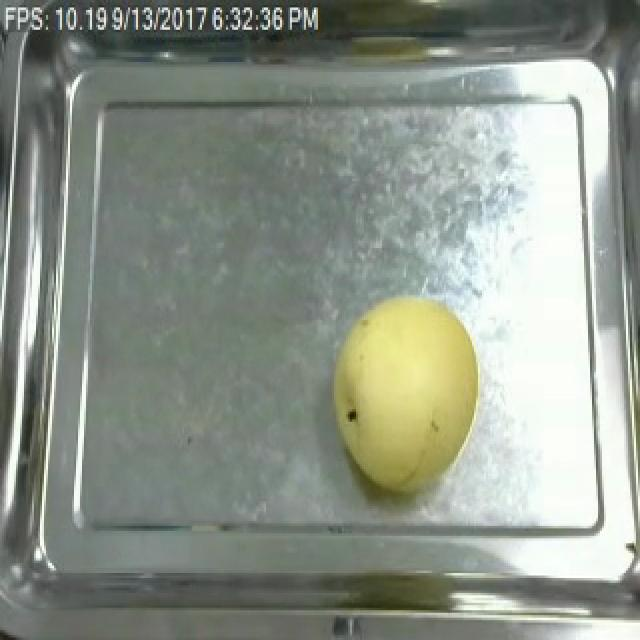Fruit: (322, 288, 490, 496)
